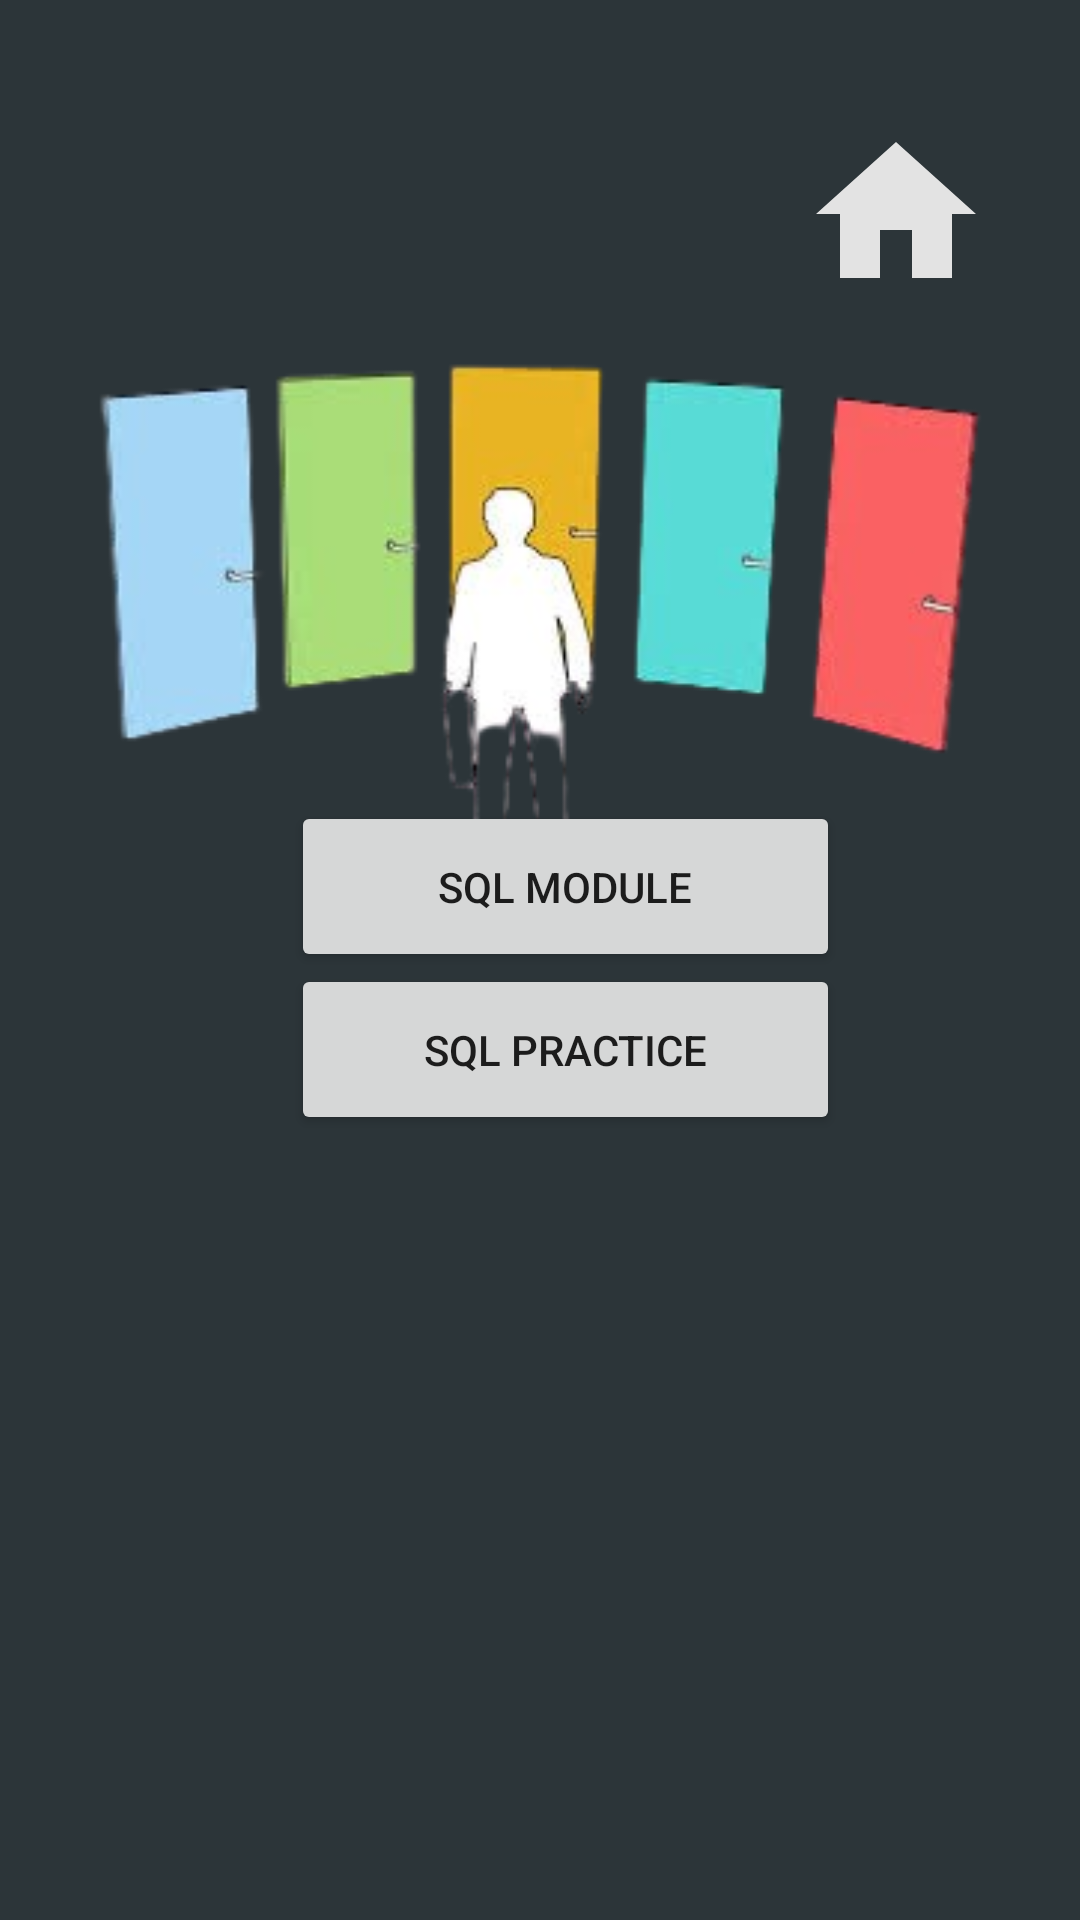

Icons on this 1080×1920 Android screen, each with the point to tap as [x,y]:
home: [896,210]
